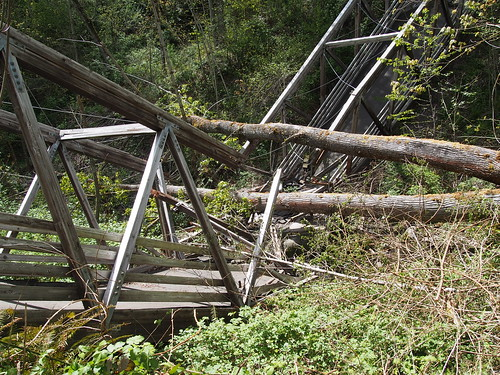bridge: (1, 11, 461, 311)
vegetation: (207, 211, 500, 375), (28, 1, 322, 113)
